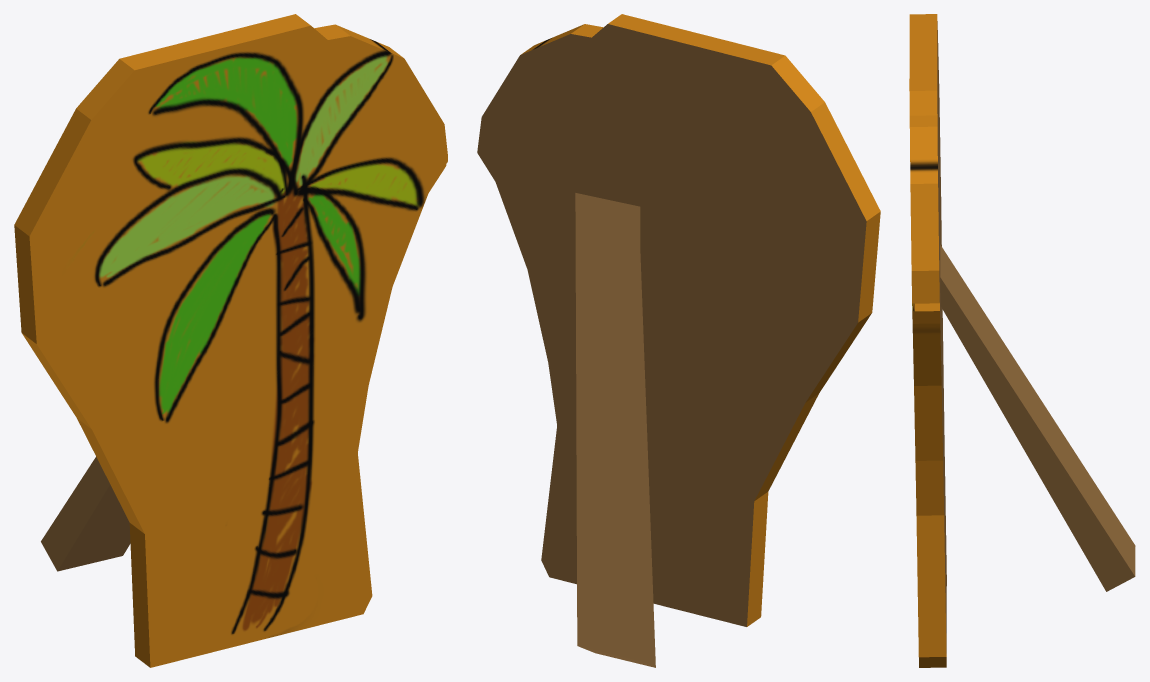
Rendered from Baum_2.fbx.
The picture shows the model from 3 angles, left to right: view 1: azimuth 30°, elevation 25°; view 2: azimuth 150°, elevation 25°; view 3: azimuth 270°, elevation 25°; orthographic projection. The views are drawn at different scales.
Parts seen in each view (by area): view 1: Plane; view 2: Plane; view 3: Plane.
Boxes of the visible parts, x1,y1,x2,y2 form: Plane: (14,14,447,667); Plane: (477,14,880,667); Plane: (909,14,1135,667).
Bounding box in the file's own units: 70.19 × 97.35 × 36.03.
2 materials, 1 textured.
